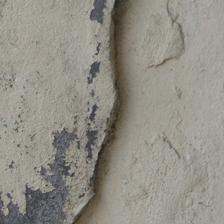Crack: (35, 1, 95, 223)
